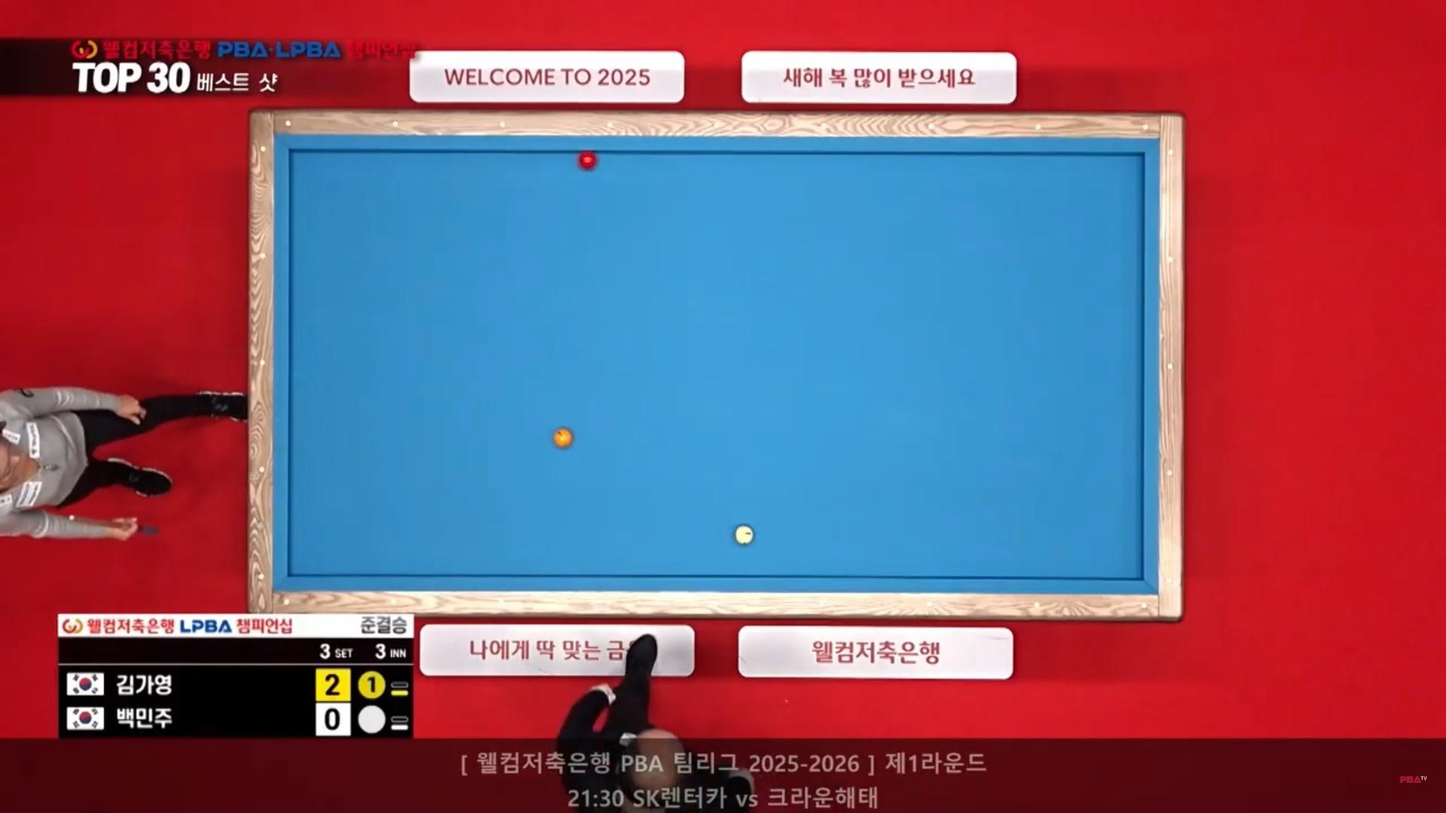Red: (575, 151, 598, 169)
White: (731, 526, 755, 546)
billiard-ball-Yellow: (552, 428, 576, 450)
